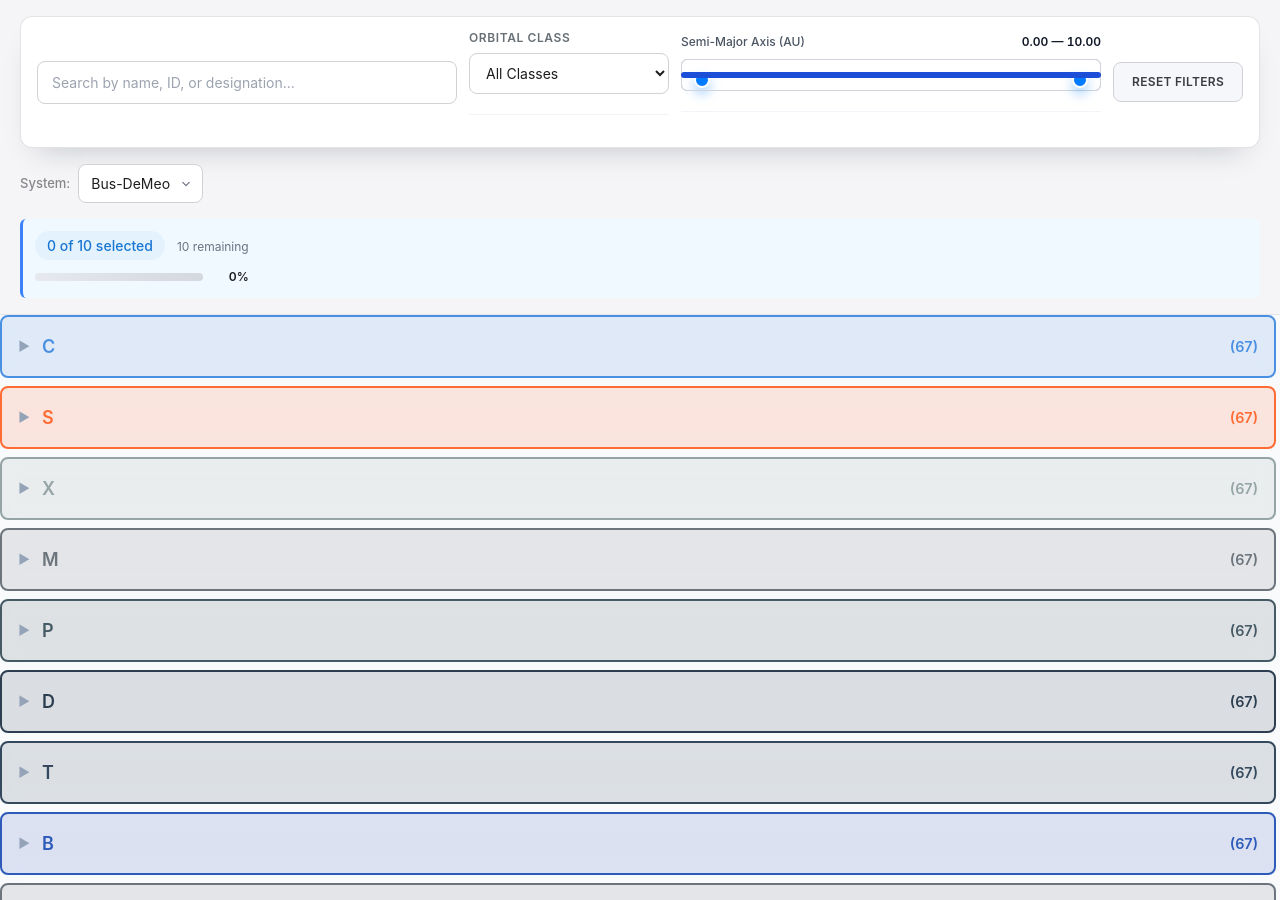
Test: Visualization Integrity with Large Datasets › TaxonomyTree with Large Classifications › should handle classifications with 1000+ asteroids
The image size is (1280, 900).
Expected: the button "▶ C (67)" is shown, [0,315,1276,378]
Note: Expand large classification
Click the text "C" at x=49, y=346, box [42,336,55,357]
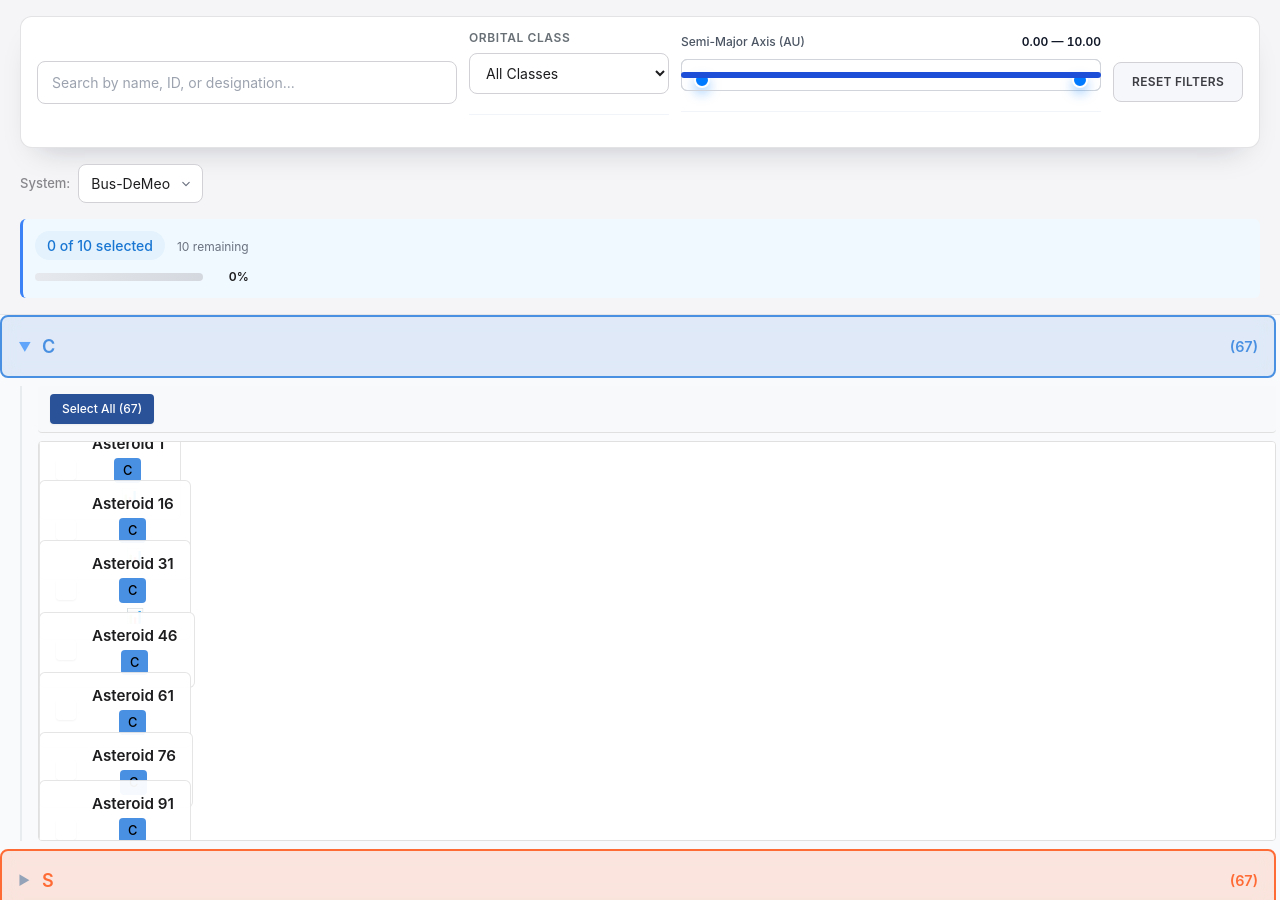
Expected: the element with class "asteroid-item" showing "Asteroid 1 C 📊" is shown, [39,441,181,520]
